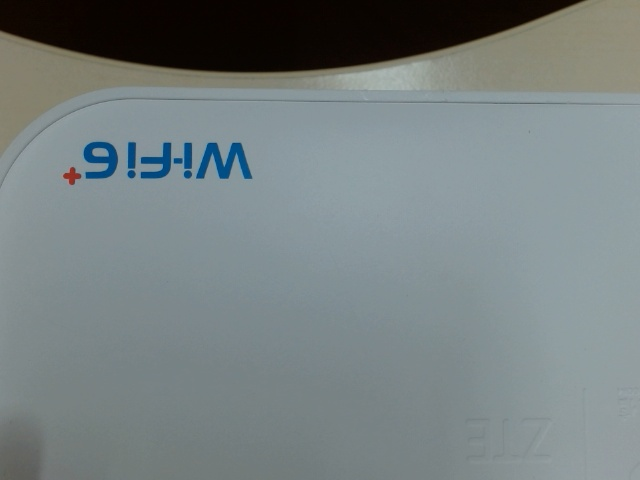AJ_ZTEWIFI6Plus: (52, 126, 265, 196)
